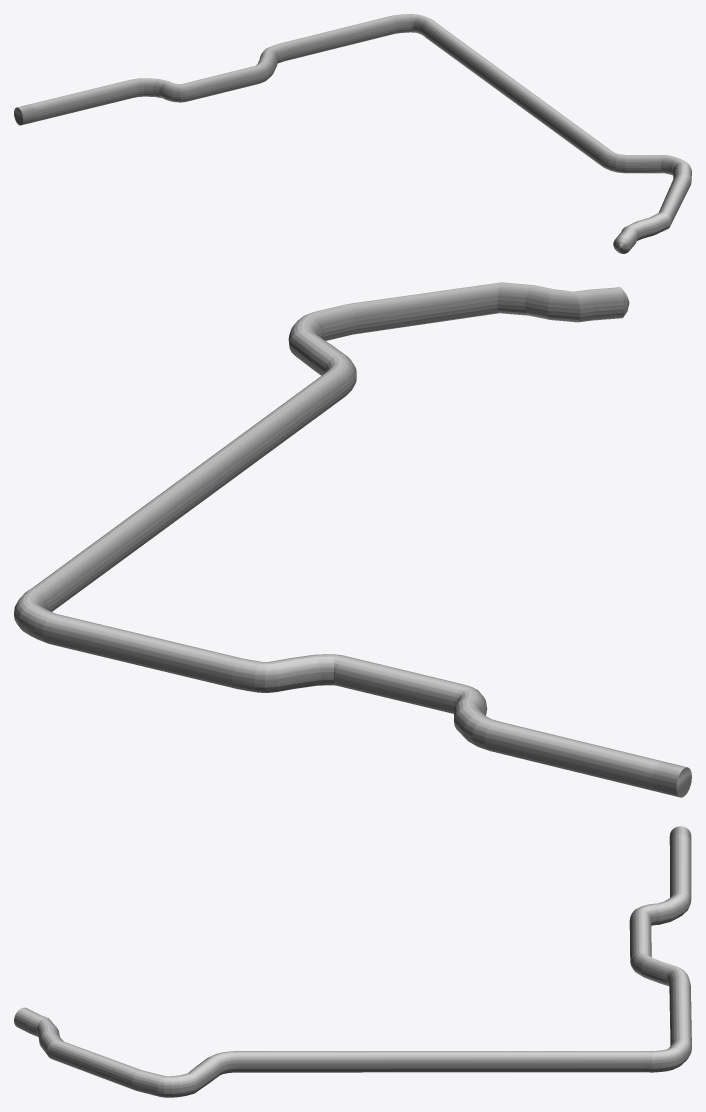
File: железочка.fbx
3 views of the same model, one above another, from view 1: azimuth 30°, elevation 25°; view 2: azimuth 150°, elevation 25°; view 3: azimuth 270°, elevation 25° (orthographic). The views are drawn at different scales.
Parts seen in each view (by area): view 1: Цилиндр.041; view 2: Цилиндр.041; view 3: Цилиндр.041.
Boxes of the visible parts, box(x1,y1,x2,y2) form: Цилиндр.041: box(14, 14, 691, 253); Цилиндр.041: box(14, 282, 691, 797); Цилиндр.041: box(14, 826, 691, 1097).
Bounding box in the file's own units: 136 × 4.79 × 153.
